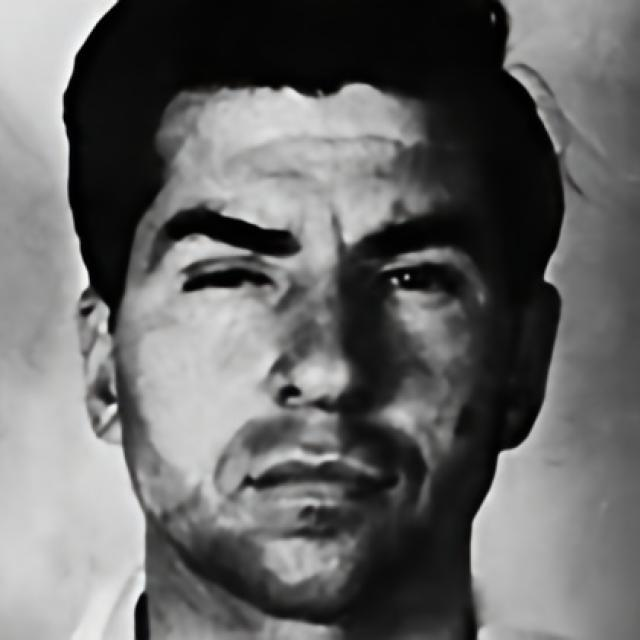anger: (110, 90, 510, 611)
